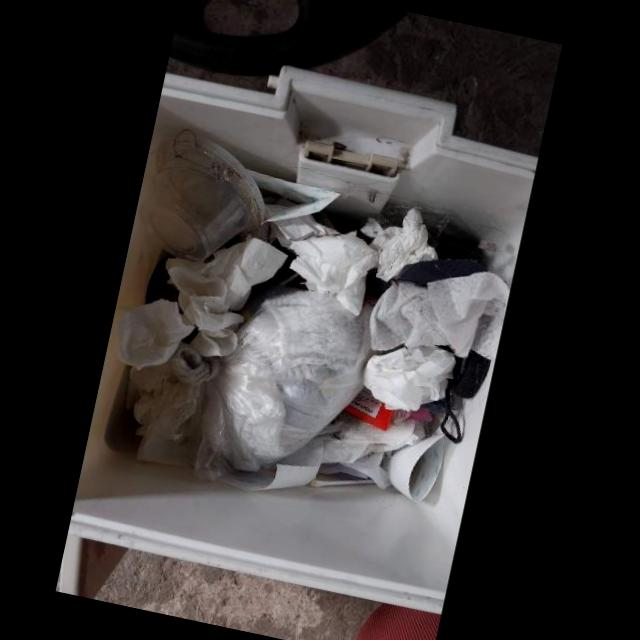giay: (165, 233, 287, 357), (370, 271, 509, 357), (289, 231, 376, 315), (362, 344, 455, 410), (360, 208, 437, 282), (113, 300, 193, 370), (216, 464, 318, 491)
hop_nhua: (138, 136, 263, 261)
khau_trang: (440, 349, 491, 443)
tui_ni_long: (148, 289, 374, 478)
